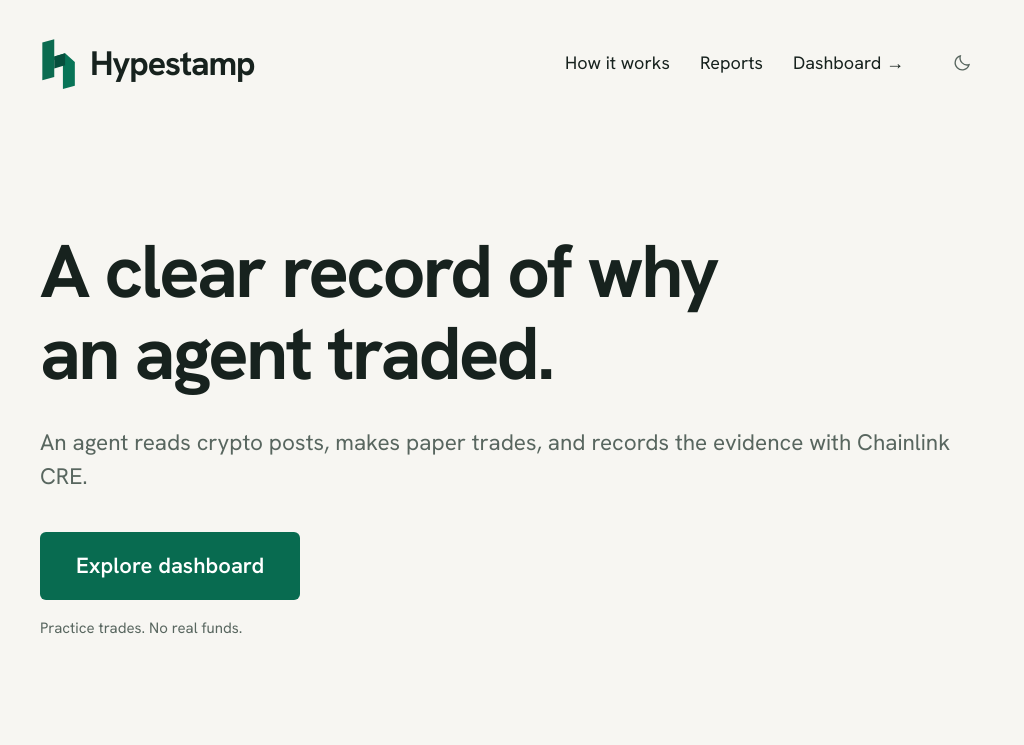
Test case: keeps a shared choice when navigating from landing to dashboard
The width and height of the screenshot is (1024, 745).
Click the button named "Switch to dark mode" at (962, 63), box [940, 41, 984, 85]
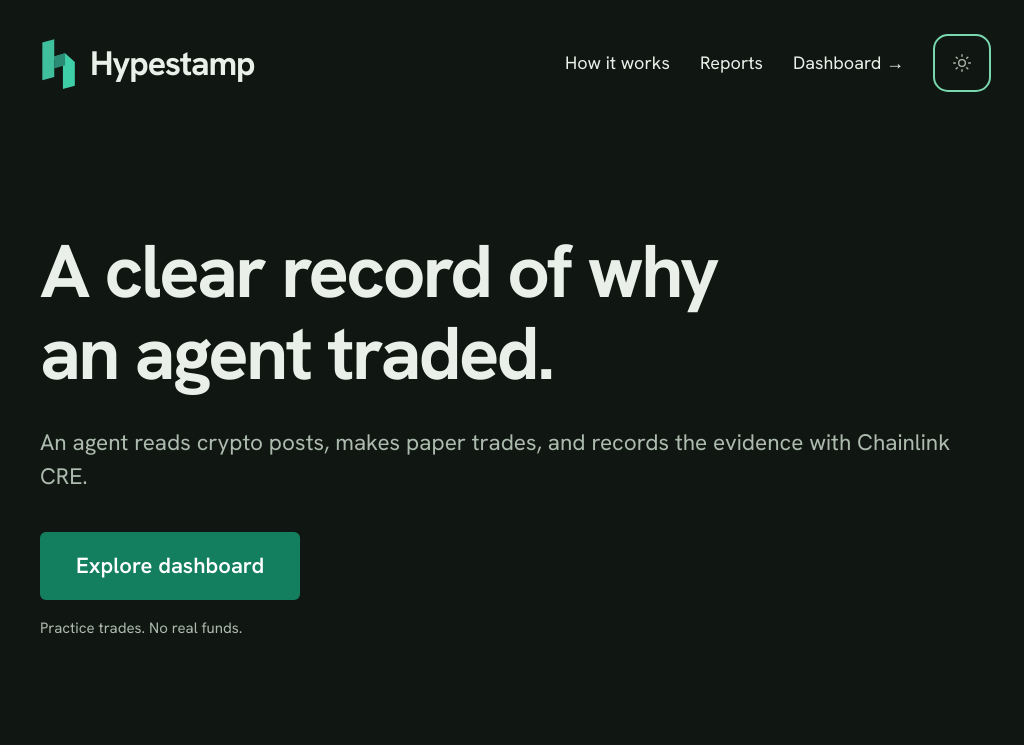
Click the link "Explore dashboard" at (170, 566), box [40, 532, 300, 600]
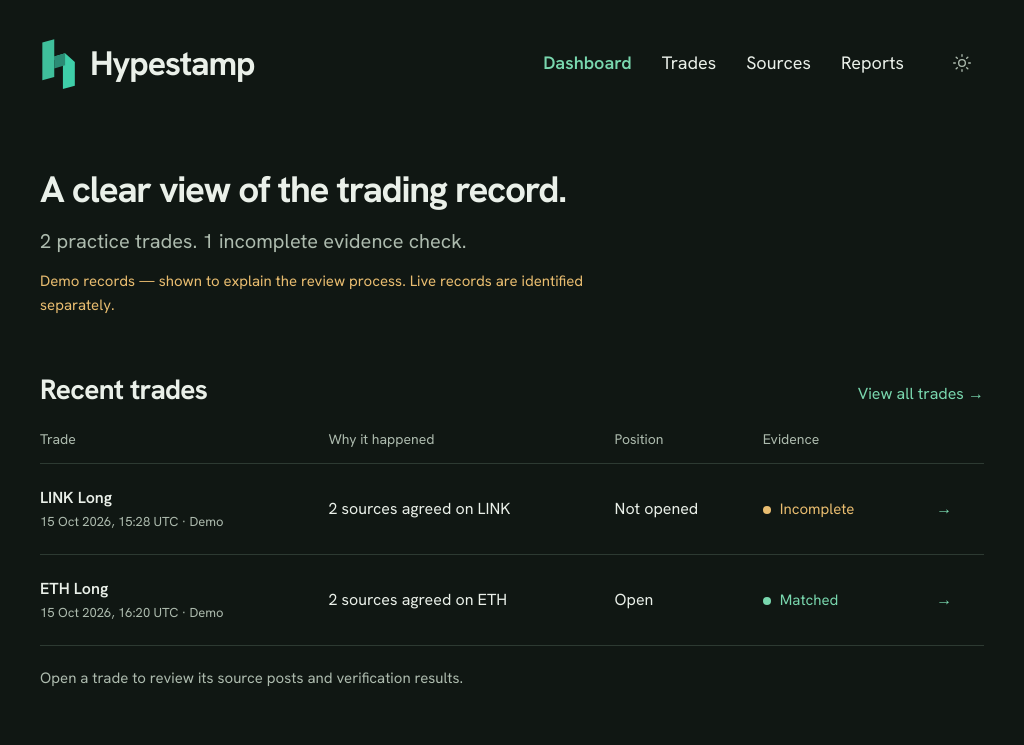
Expected: the button named "Switch to light mode" is shown, [940, 41, 984, 85]
Expected: the heading "A clear view of the trading record." is shown, [40, 165, 566, 213]
